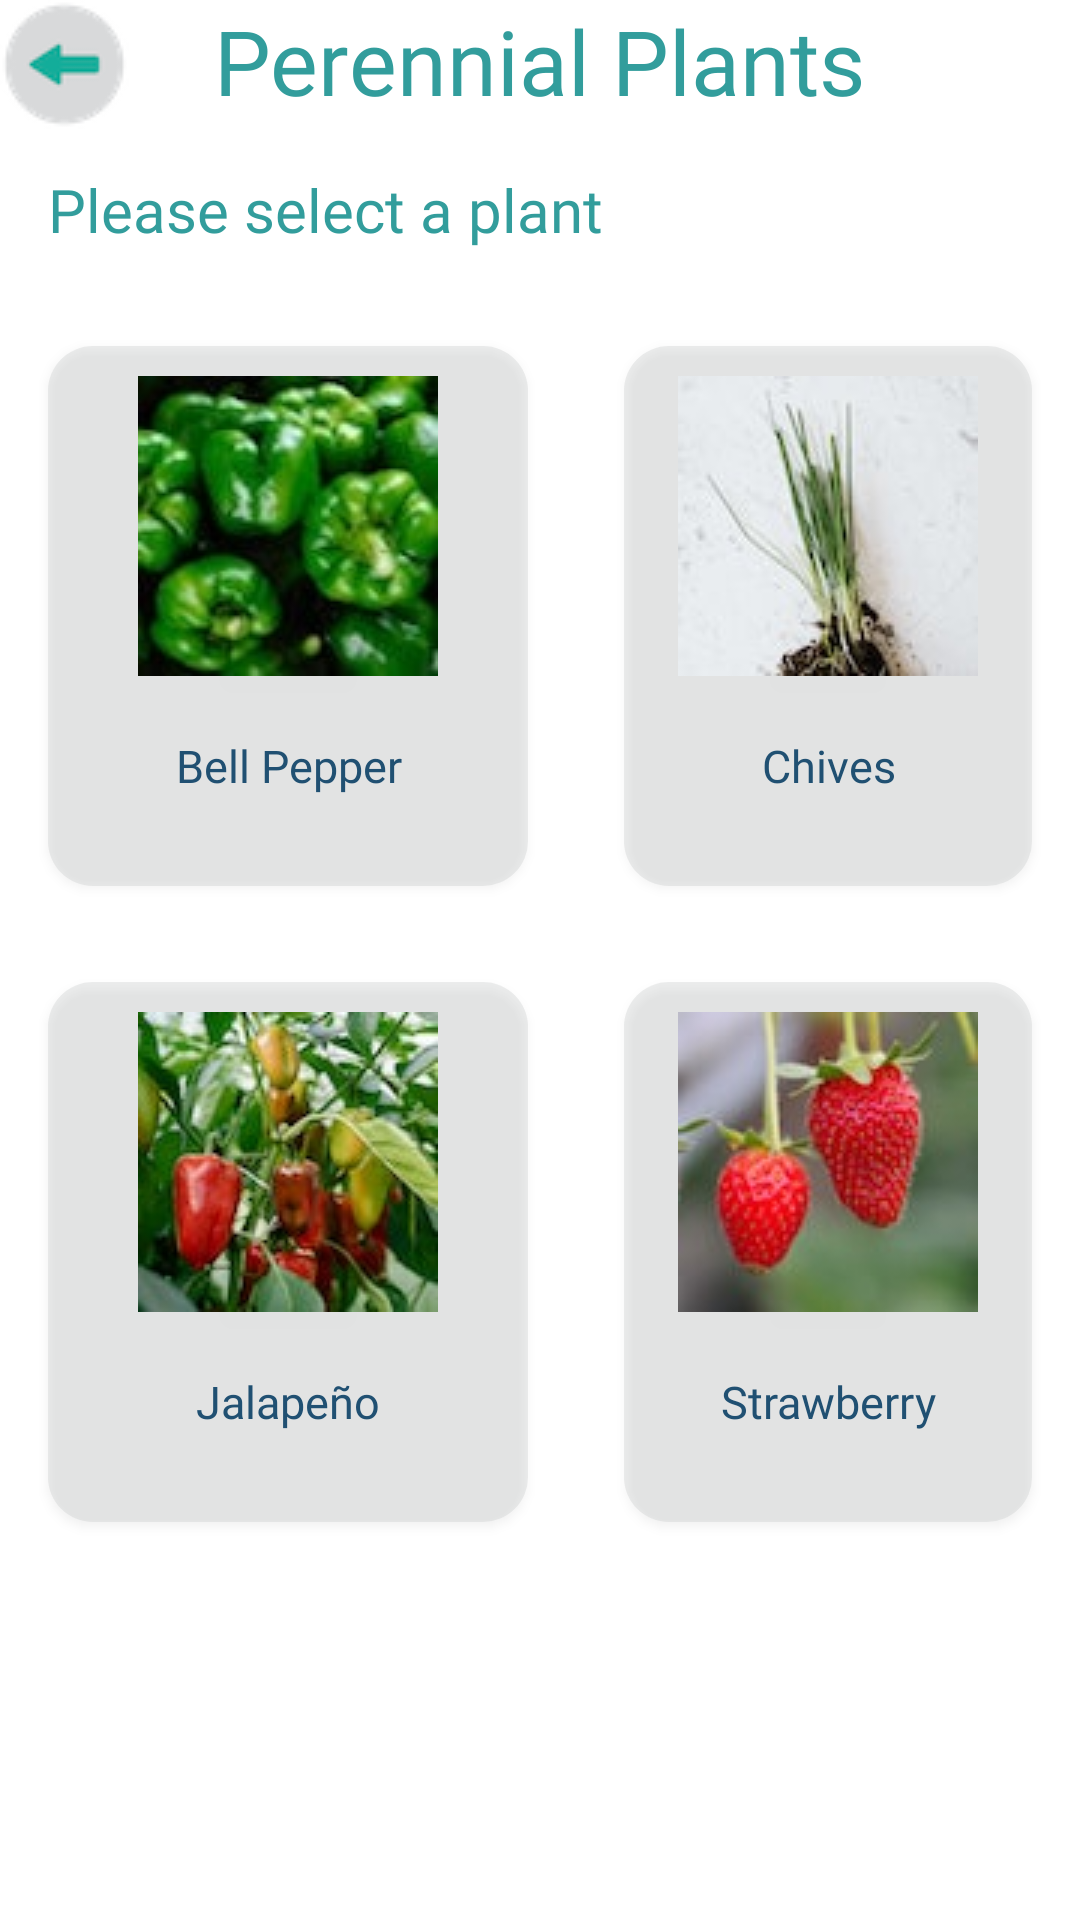

Screen size 1080×1920. Icon name, then its center in pixels as (x=x, y=y):
back: (x=64, y=64)
